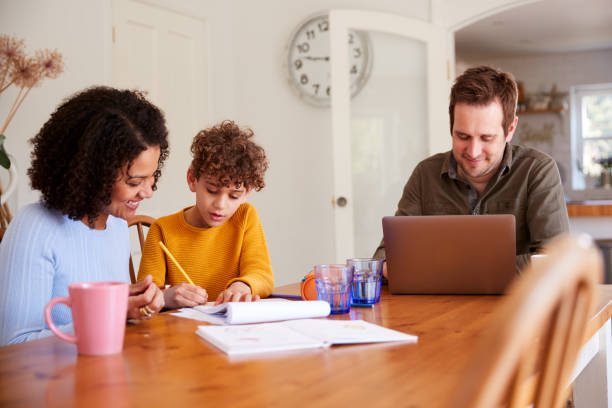without mask: (181, 147, 254, 227), (92, 141, 165, 221), (446, 96, 519, 176)
